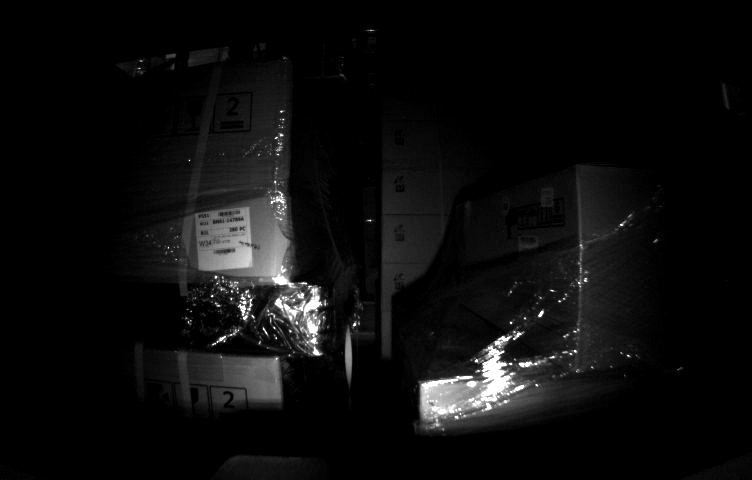True Barcode: (195, 206, 254, 268)
